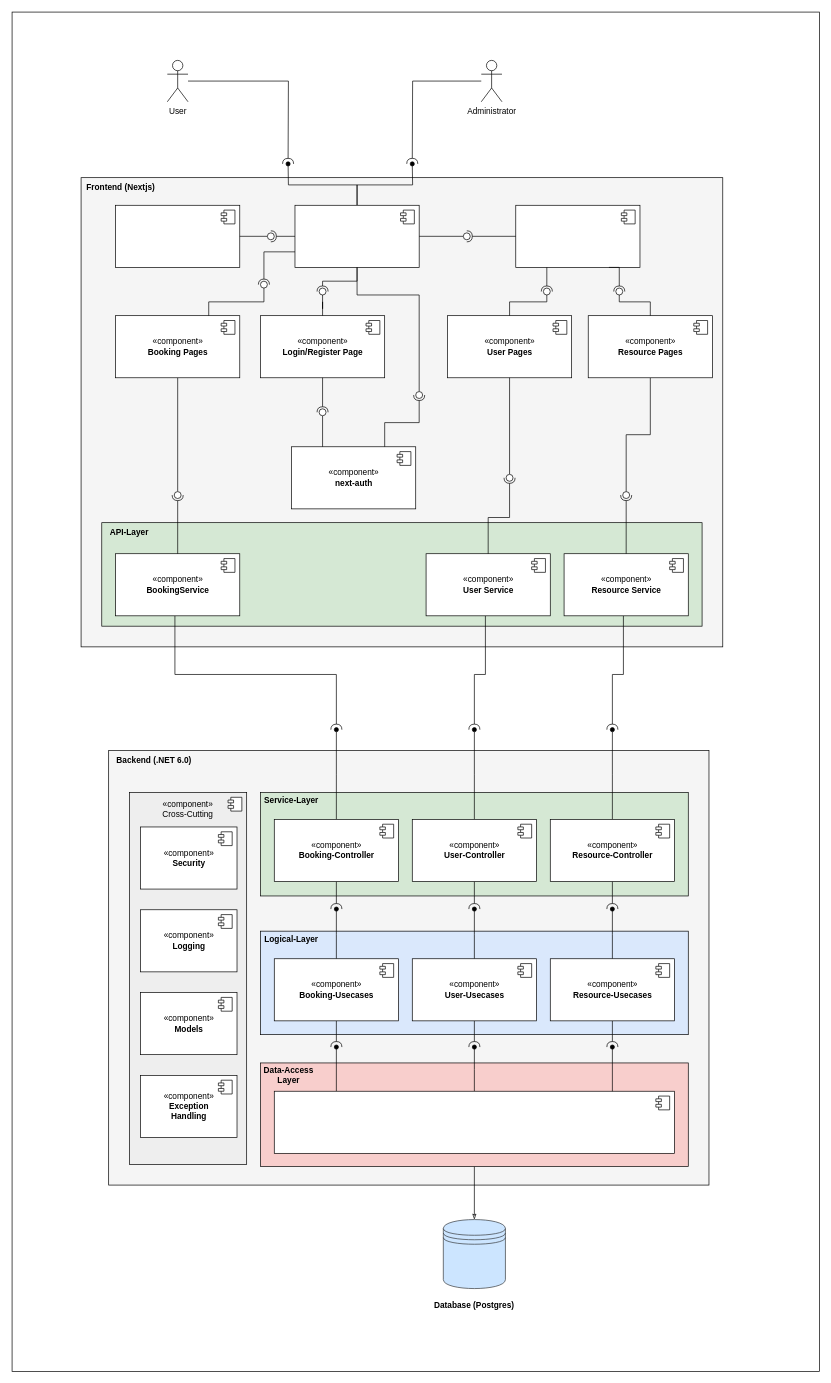
Some shapes in this 831 by 1383 pixel diagram are drawn without their labels. The centre of each missing label's shape, as x and y in pixels:
"«component» Admin Panel" goes at (577,236).
"«component» DBContext" goes at (474,1122).
"«component» Overview Page" goes at (177,236).
"«component» Router" goes at (356,236).
